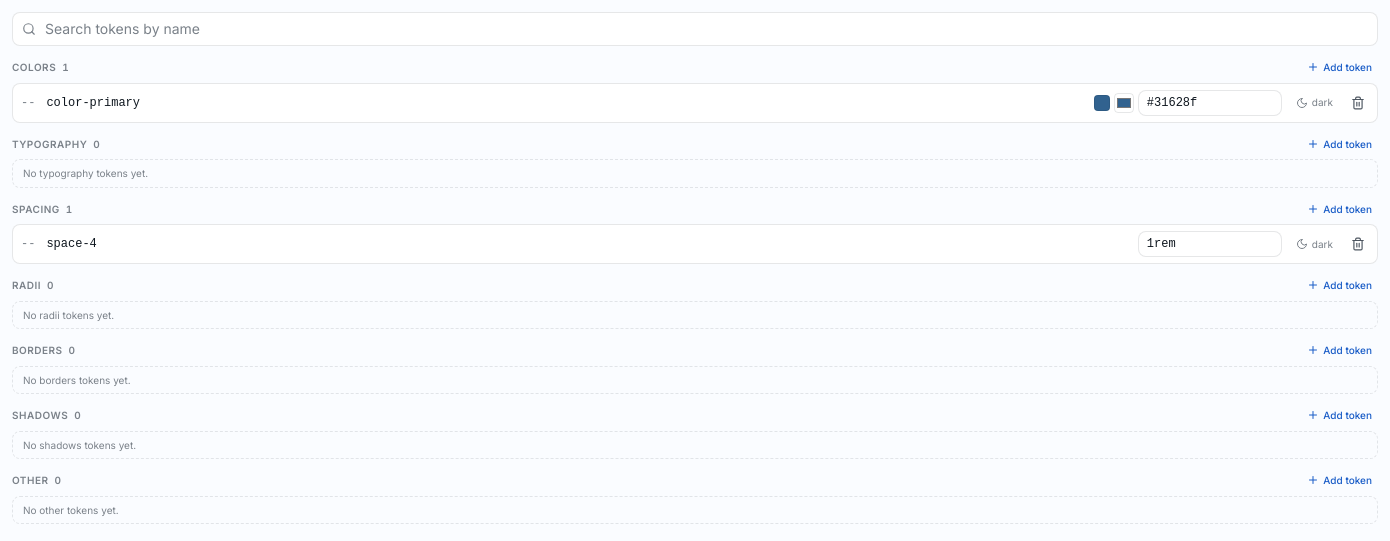
Test: TokenTableEditor › clears an active search when adding, so the new token is visible
Type "space" into the field labelled "Search tokens". click: (695, 29)
box: x1=12 y1=12 x2=1378 y2=46
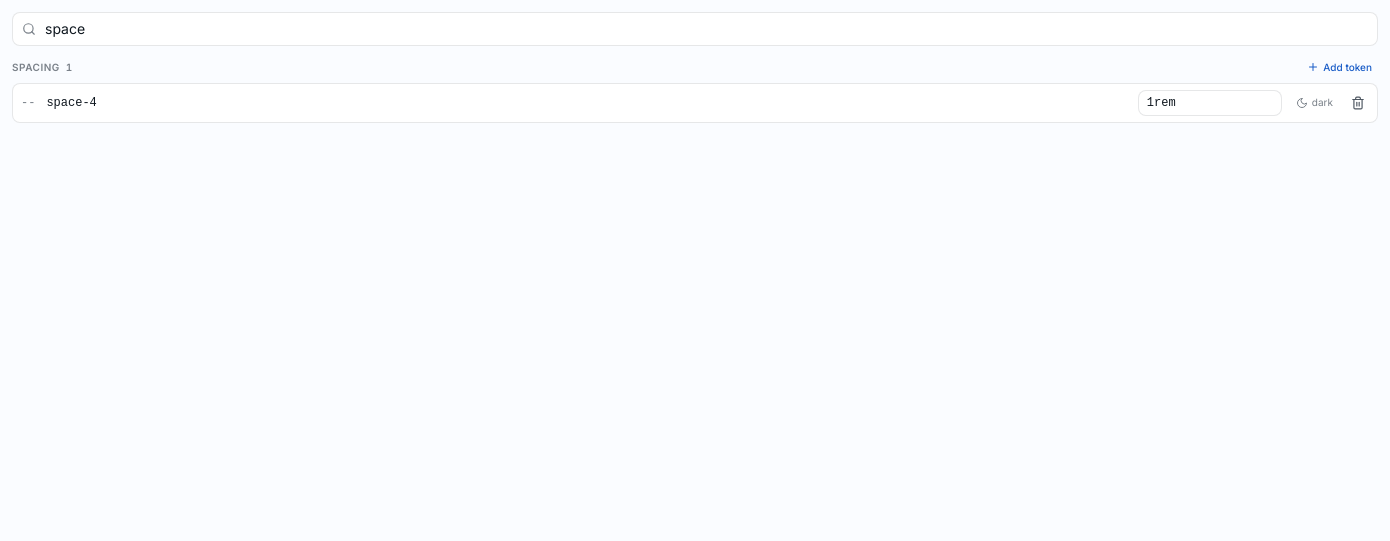
// Only Spacing is visible under this filter - add there.
Click the button with aria-label "Add spacing token". click: click(1340, 67)
box: x1=1301 y1=58 x2=1378 y2=76
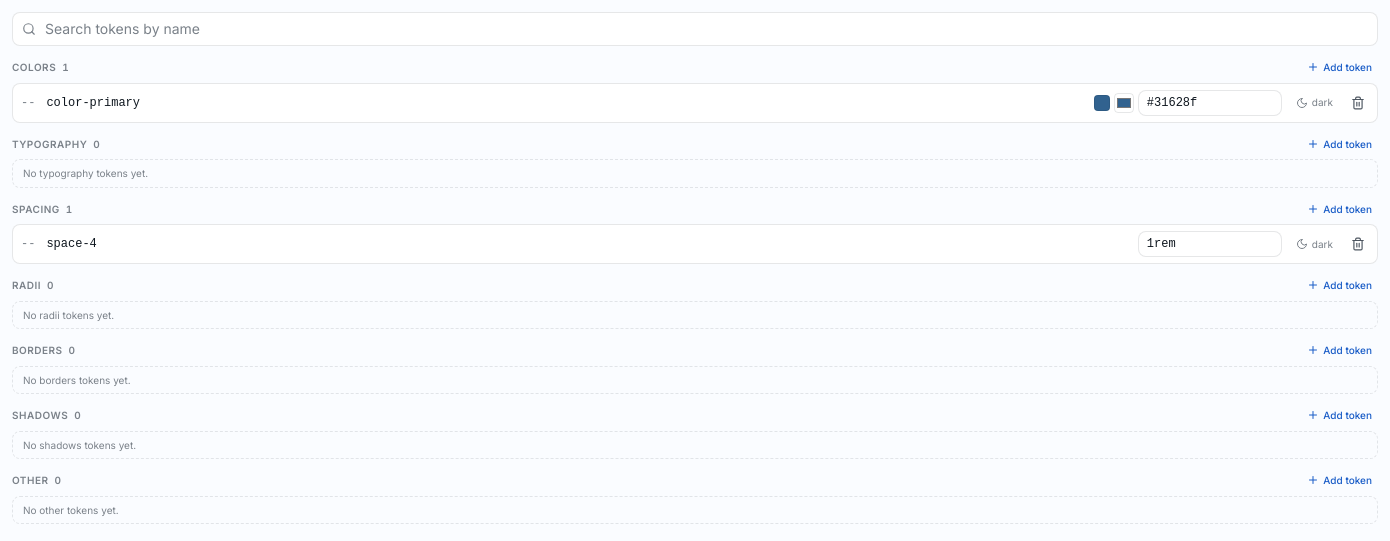
Now the field labelled "Search tokens" is empty, box x1=12 y1=12 x2=1378 y2=46
Now the text "Colors" is shown, box x1=12 y1=61 x2=56 y2=73
